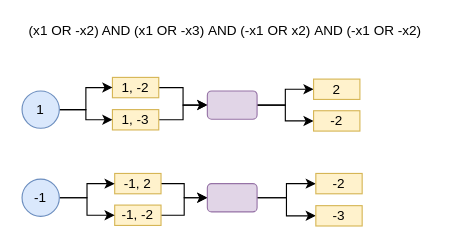
This 450x245 diagram has some shape labels left out. Here are the shapes that lost their labels. From the top down, the centre of each, then its label:
At pixel 231 104: "1=A".
At pixel 231 197: "1=Ψ".
